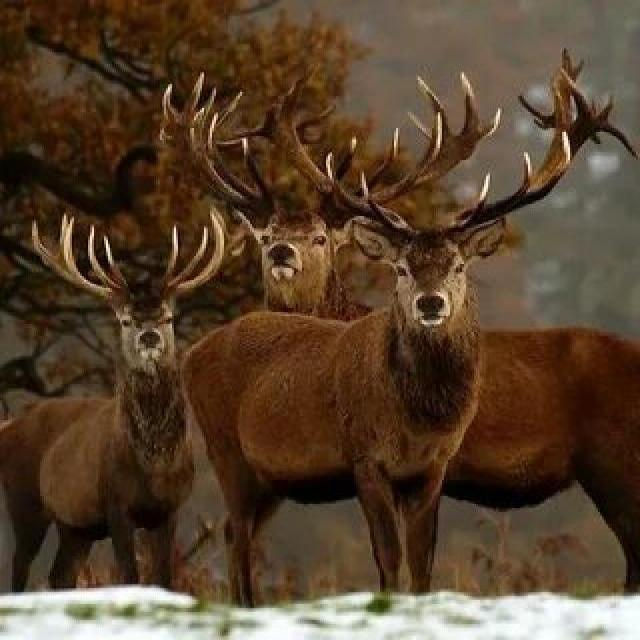deer: (153, 117, 543, 547), (246, 177, 640, 594), (0, 249, 324, 564)
